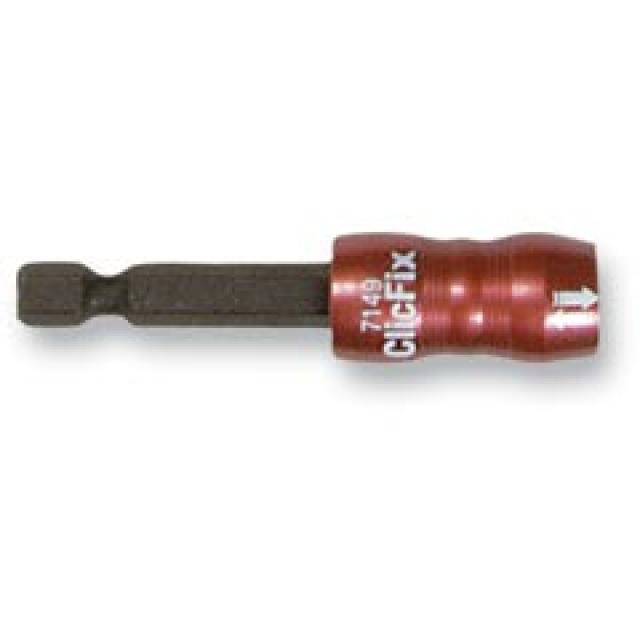screwdriver: (0, 202, 613, 378)
